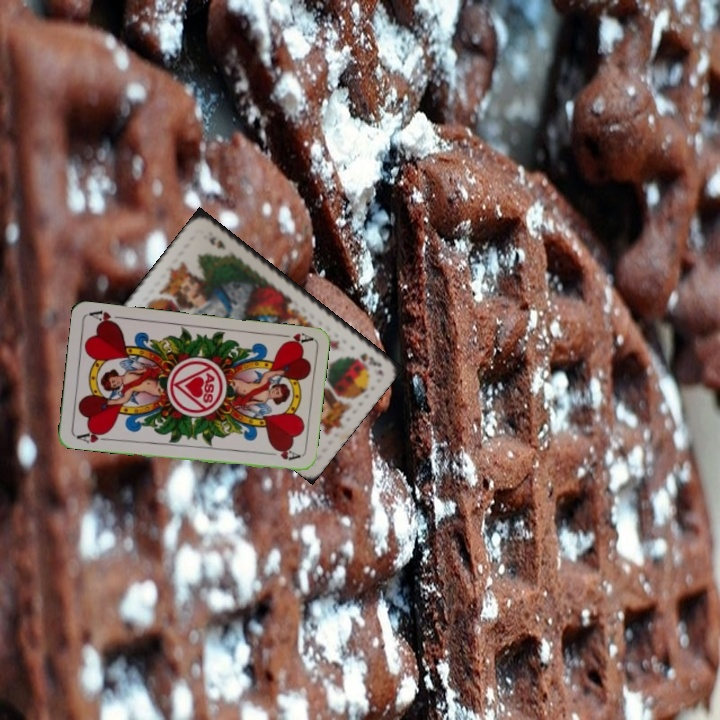HA: (72, 426, 113, 446), (273, 329, 314, 348)
SK: (356, 349, 384, 370)
